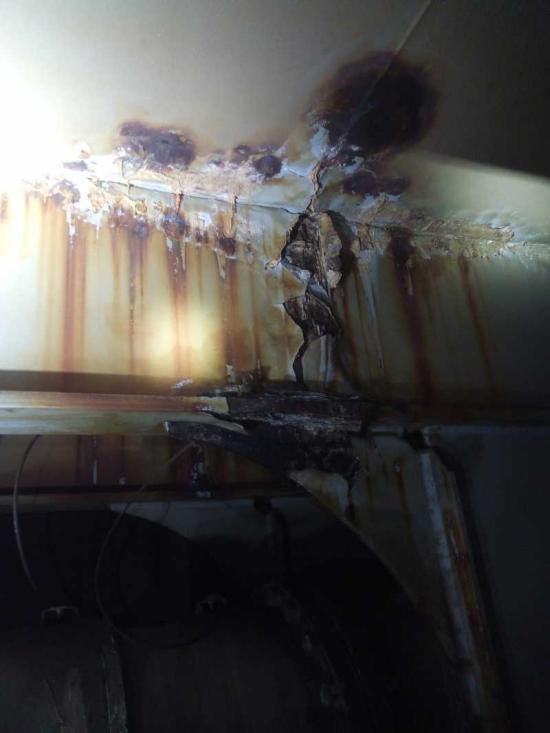corrosion: (294, 45, 453, 178), (274, 193, 359, 386), (153, 426, 344, 500), (43, 182, 93, 380), (383, 228, 436, 392), (210, 211, 261, 380), (107, 99, 202, 181), (113, 198, 154, 386), (452, 234, 500, 380), (164, 201, 197, 390), (210, 128, 283, 190), (67, 435, 143, 488), (48, 146, 89, 177)
